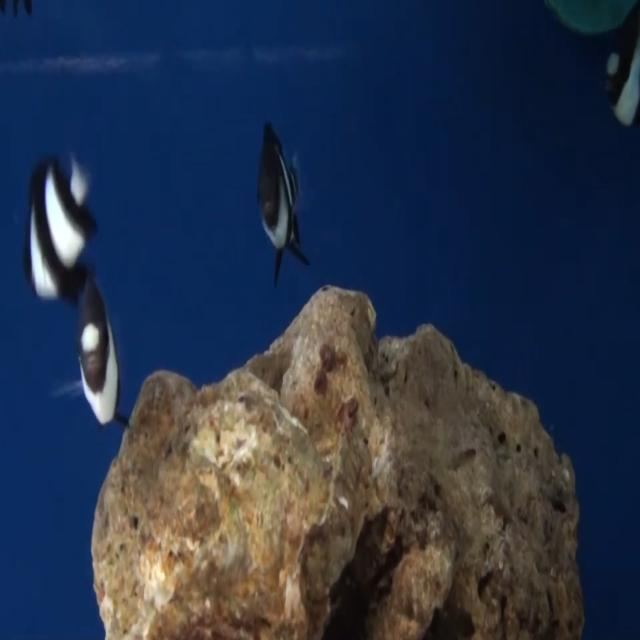ThreeStripedDamselfish: (28, 154, 96, 301), (256, 123, 310, 289)
